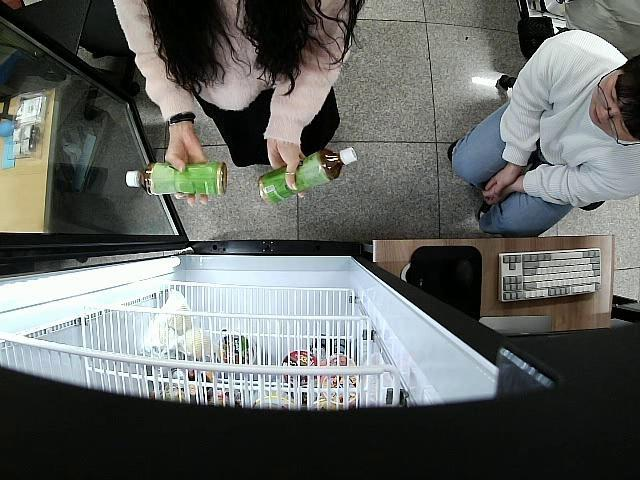19_17cha: (258, 144, 356, 204), (124, 157, 230, 201)
